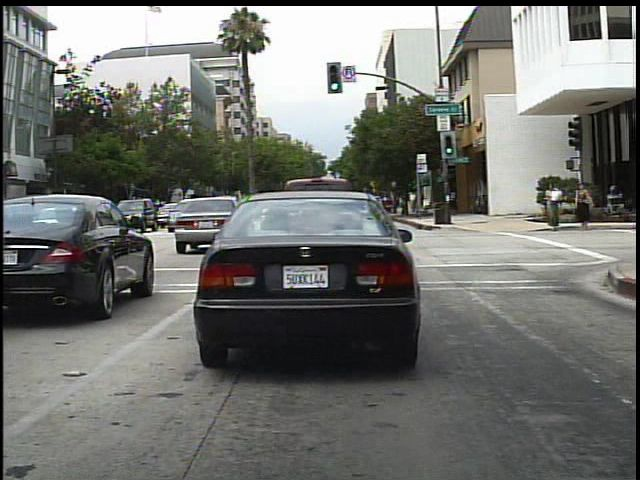person: (542, 178, 568, 233), (572, 178, 596, 232), (404, 187, 421, 219)
